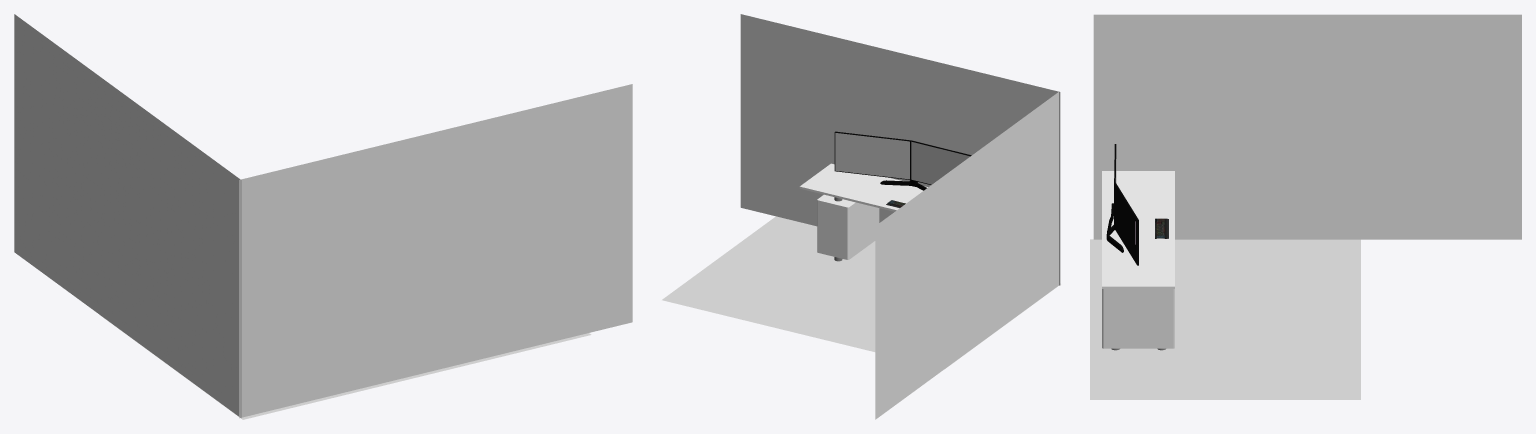
File: pc setup.fbx
3 views of the same model, side by side, from view 1: azimuth 30°, elevation 25°; view 2: azimuth 150°, elevation 25°; view 3: azimuth 270°, elevation 25° (orthographic). The views are drawn at different scales.
Parts seen in each view (by area): view 1: Plane.001, Plane.005, Plane; view 2: Plane.005, Plane.001, Plane, Cube.002, Cube.013, Cube, Cube.001; view 3: Plane.005, Plane, Cube, Cube.002, Cube.012.
Part boxes in pixels (bbox=[...]): Plane.001: bbox=[239, 84, 632, 418]; Plane.005: bbox=[14, 14, 241, 417]; Plane: bbox=[100, 315, 591, 419]; Plane.005: bbox=[875, 92, 1058, 419]; Plane.001: bbox=[740, 14, 1060, 285]; Plane: bbox=[662, 216, 1060, 368]; Cube.002: bbox=[817, 194, 879, 259]; Cube.013: bbox=[835, 133, 909, 179]; Cube: bbox=[799, 163, 927, 211]; Cube.001: bbox=[911, 141, 970, 184]; Plane.005: bbox=[1093, 14, 1521, 239]; Plane: bbox=[1090, 239, 1360, 399]; Cube: bbox=[1102, 171, 1174, 288]; Cube.002: bbox=[1102, 289, 1174, 348]; Cube.012: bbox=[1114, 182, 1138, 265].
Bounding box in the file's own units: 469 × 272 × 473.
